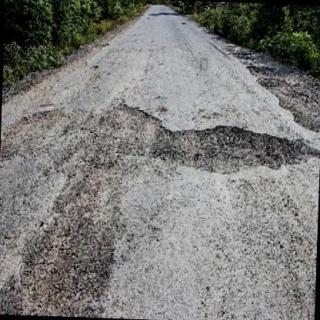pothole: (150, 123, 320, 173)
